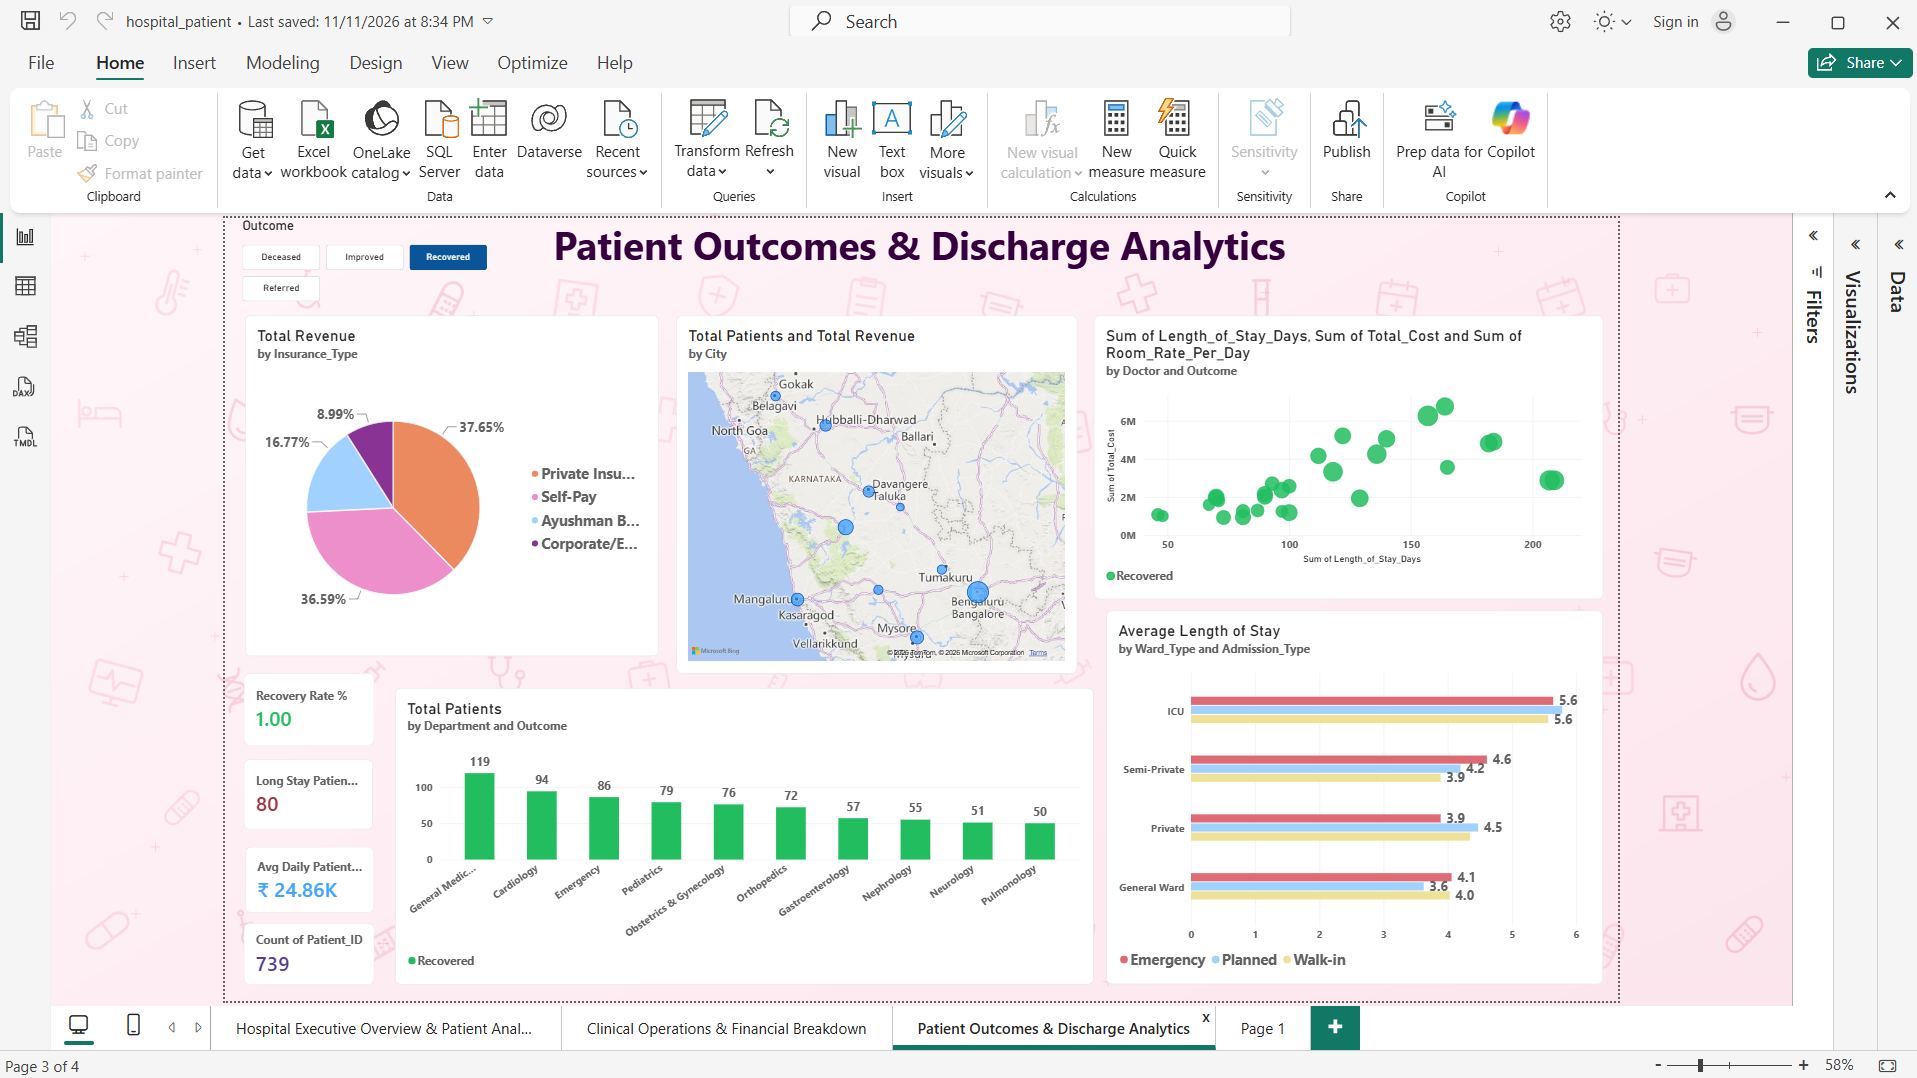

The page's visual inventory and layout, read from the dashboard file:
{"tool":"powerbi","page":{"name":"Patient Outcomes & Discharge Analytics ","canvas":[1920,1080],"ordinal":2},"visuals":[{"type":"textbox","box":[10.6,0,1908.5,114.9],"z":0},{"type":"cardVisual","fields":{"Data":["Patient_Data.Recovery Rate %"]},"box":[25.5,627.7,180.9,100],"z":1},{"type":"cardVisual","fields":{"Data":["Patient_Data.Long Stay Patient Count"]},"box":[25.5,746.8,178.7,97.9],"z":2},{"type":"cardVisual","fields":{"Data":["Patient_Data.Avg Daily Patient Cost"]},"box":[27.7,866,178.7,91.5],"z":3},{"type":"cardVisual","fields":{"Data":["Count(Patient_Data.Patient_ID)"]},"box":[25.5,972.3,180.9,85.1],"z":4},{"type":"clusteredColumnChart","fields":{"Category":["Patient_Data.Department"],"Series":["Patient_Data.Outcome"],"Y":["Patient_Data.Total Patients"]},"box":[234.8,647.8,963,408.7],"z":5},{"type":"clusteredBarChart","fields":{"Category":["Patient_Data.Ward_Type"],"Series":["Patient_Data.Admission_Type"],"Y":["Patient_Data.Average Length of Stay"]},"box":[1215.2,541.3,684.8,515.2],"z":6},{"type":"pieChart","fields":{"Category":["Patient_Data.Insurance_Type"],"Y":["Patient_Data.Total Revenue"]},"box":[26.8,133.8,570.2,469.3],"z":7},{"type":"scatterChart","fields":{"Category":["Patient_Data.Doctor"],"Series":["Patient_Data.Outcome"],"Size":["Sum(Patient_Data.Room_Rate_Per_Day)"],"X":["Sum(Patient_Data.Length_of_Stay_Days)"],"Y":["Sum(Patient_Data.Total_Cost)"]},"box":[1197.9,134,702.1,391.5],"z":8},{"type":"map","fields":{"Category":["Patient_Data.City"],"Size":["Patient_Data.Total Patients"]},"box":[621.3,134,553.2,493.6],"z":9},{"type":"advancedSlicerVisual","fields":{"Values":["Patient_Data.Outcome"]},"box":[24.7,0,337.6,115.3],"z":10}]}

Visuals, with their boxes on the page's 1920x1080 design canvas (x1, y1, x2, y2). These are canvas units, not pixel positions in the 1917x1078 screenshot, which may show the page scaled, cropped or inside an application window:
textbox: crop(11, 0, 1919, 115)
cardVisual - Patient_Data.Recovery Rate %: crop(26, 628, 206, 728)
cardVisual - Patient_Data.Long Stay Patient Count: crop(26, 747, 204, 845)
cardVisual - Patient_Data.Avg Daily Patient Cost: crop(28, 866, 206, 958)
cardVisual - Count(Patient_Data.Patient_ID): crop(26, 972, 206, 1057)
clusteredColumnChart - Patient_Data.Department x Patient_Data.Outcome: crop(235, 648, 1198, 1056)
clusteredBarChart - Patient_Data.Ward_Type x Patient_Data.Admission_Type: crop(1215, 541, 1900, 1056)
pieChart - Patient_Data.Insurance_Type x Patient_Data.Total Revenue: crop(27, 134, 597, 603)
scatterChart - Patient_Data.Doctor x Patient_Data.Outcome: crop(1198, 134, 1900, 526)
map - Patient_Data.City x Patient_Data.Total Patients: crop(621, 134, 1174, 628)
advancedSlicerVisual - Patient_Data.Outcome: crop(25, 0, 362, 115)
